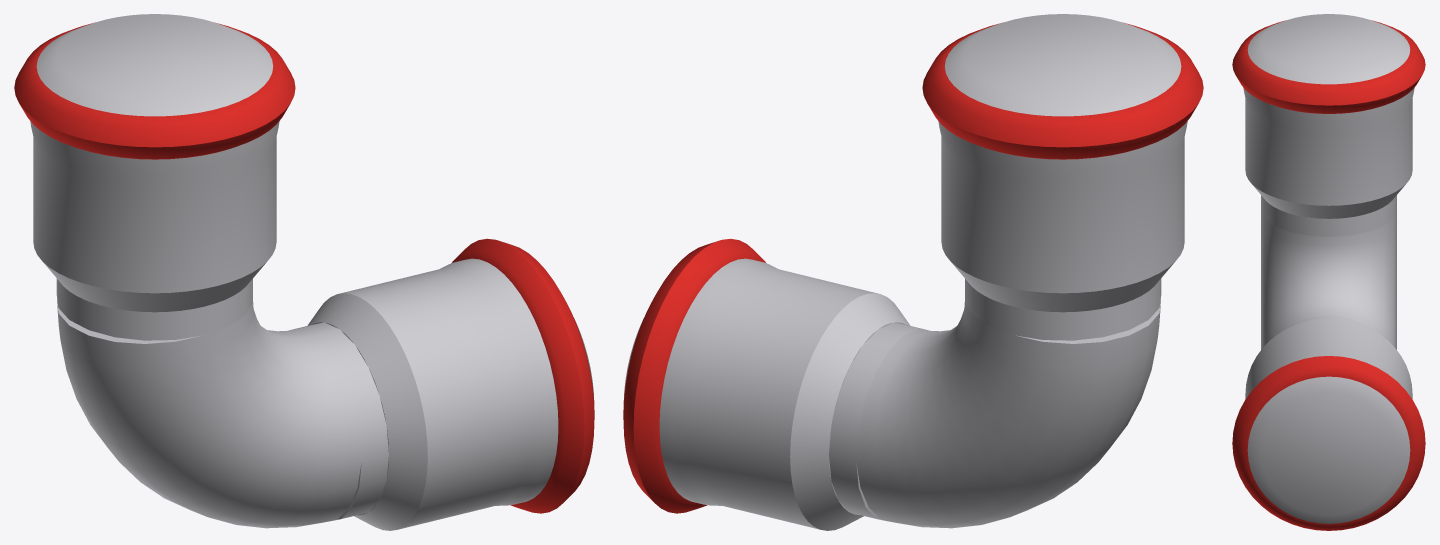
Rendered from fitting_e90_22_r.glb.
3 views of the same model, side by side, from view 1: azimuth 30°, elevation 25°; view 2: azimuth 150°, elevation 25°; view 3: azimuth 270°, elevation 25° (orthographic). The views are drawn at different scales.
Visible parts, largest first — view 1: раструб.001, изгиб, раструб, кольцо пресс.001, кольцо пресс, корпус.001, корпус; view 2: раструб.001, изгиб, раструб, кольцо пресс.001, кольцо пресс, корпус.001, корпус; view 3: раструб.001, раструб, изгиб, кольцо пресс, кольцо пресс.001, корпус.001.
Part boxes in pixels (x1,y1,x2,y2): раструб.001: (30,14,279,312); изгиб: (57,299,361,528); раструб: (307,258,593,530); кольцо пресс.001: (14,23,295,159); кольцо пресс: (452,238,594,513); корпус.001: (56,278,252,340); корпус: (290,322,388,519); раструб.001: (938,14,1187,312); изгиб: (856,299,1160,528); раструб: (624,258,910,530); кольцо пресс.001: (922,23,1203,159); кольцо пресс: (623,238,765,513); корпус.001: (965,278,1161,340); корпус: (829,322,927,519); раструб.001: (1243,14,1414,218); раструб: (1245,318,1412,523); изгиб: (1261,210,1396,349); кольцо пресс: (1232,356,1425,530); кольцо пресс.001: (1232,20,1425,113); корпус.001: (1261,195,1396,236).
Bounding box in the file's own units: 0.0748 × 0.0748 × 0.0356.
